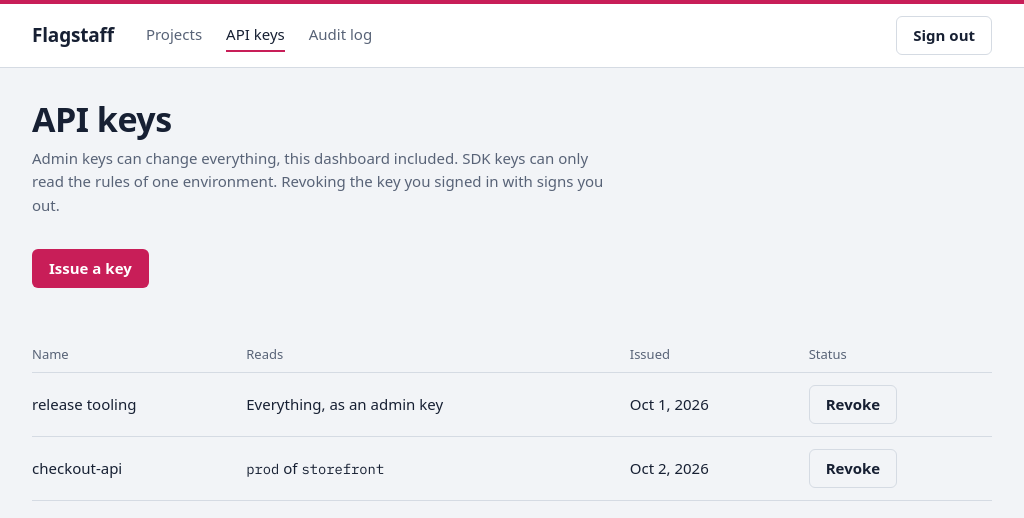
revokes a key once asked twice
Click the button with aria-label "Revoke checkout-api" at [853, 468], box 809,449 -> 897,488
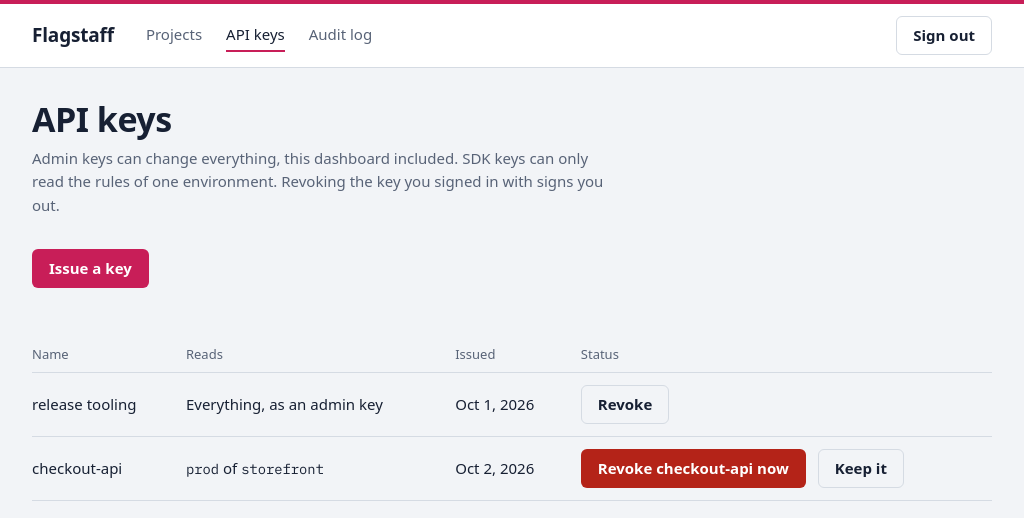
Click the button "Revoke checkout-api now" at [693, 468], box 581,449 -> 806,488
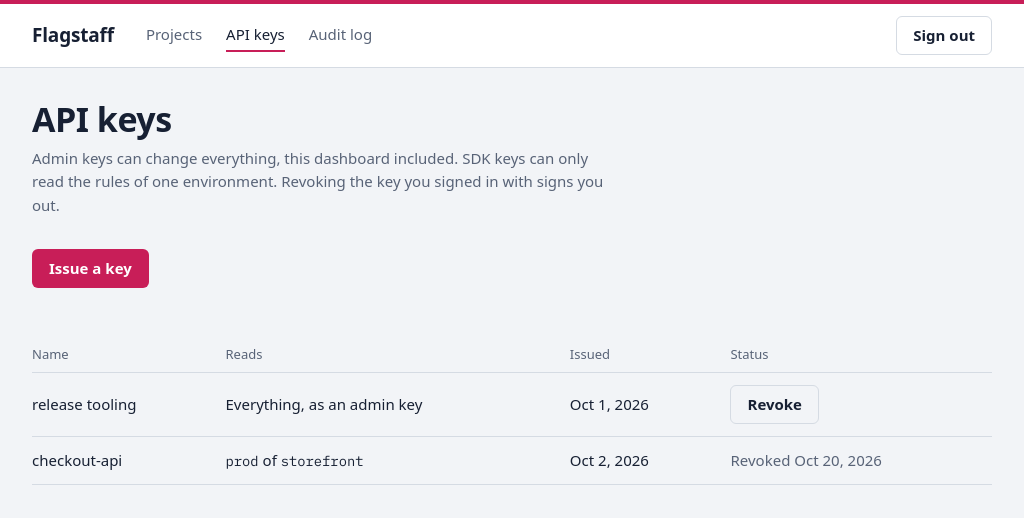
Expected: the text "Revoked Oct 20, 2026" is shown, 730,450 -> 882,470
